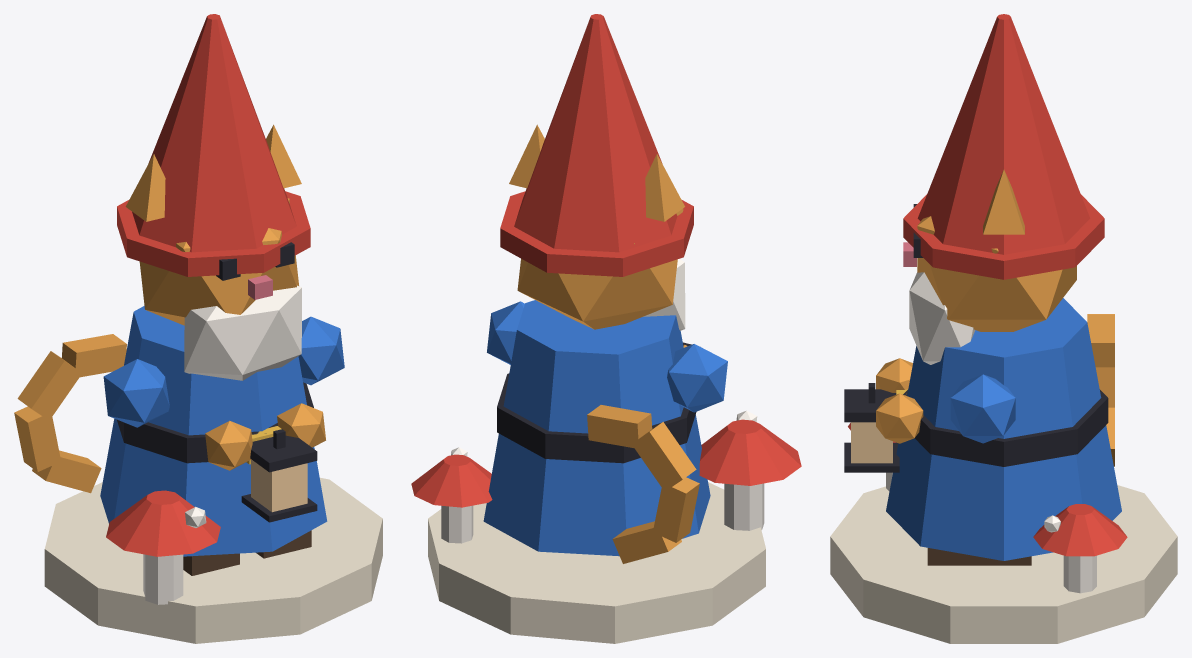
Rendered from CatCafe_Lawn_GardenGnomeCat.glb.
3 renders of one model, left to right at view 1: azimuth 30°, elevation 25°; view 2: azimuth 150°, elevation 25°; view 3: azimuth 270°, elevation 25°, orthographic.
Visible parts, largest first — view 1: CatCafe_Lawn_GardenGnomeCat; view 2: CatCafe_Lawn_GardenGnomeCat; view 3: CatCafe_Lawn_GardenGnomeCat.
Boxes of the visible parts, left/top/right/bottom form: CatCafe_Lawn_GardenGnomeCat: left=14, top=14, right=382, bottom=643; CatCafe_Lawn_GardenGnomeCat: left=411, top=14, right=801, bottom=643; CatCafe_Lawn_GardenGnomeCat: left=830, top=14, right=1177, bottom=643.
Bounding box in the file's own units: 0.9672 × 1.77 × 1.
1 material, 1 textured.
